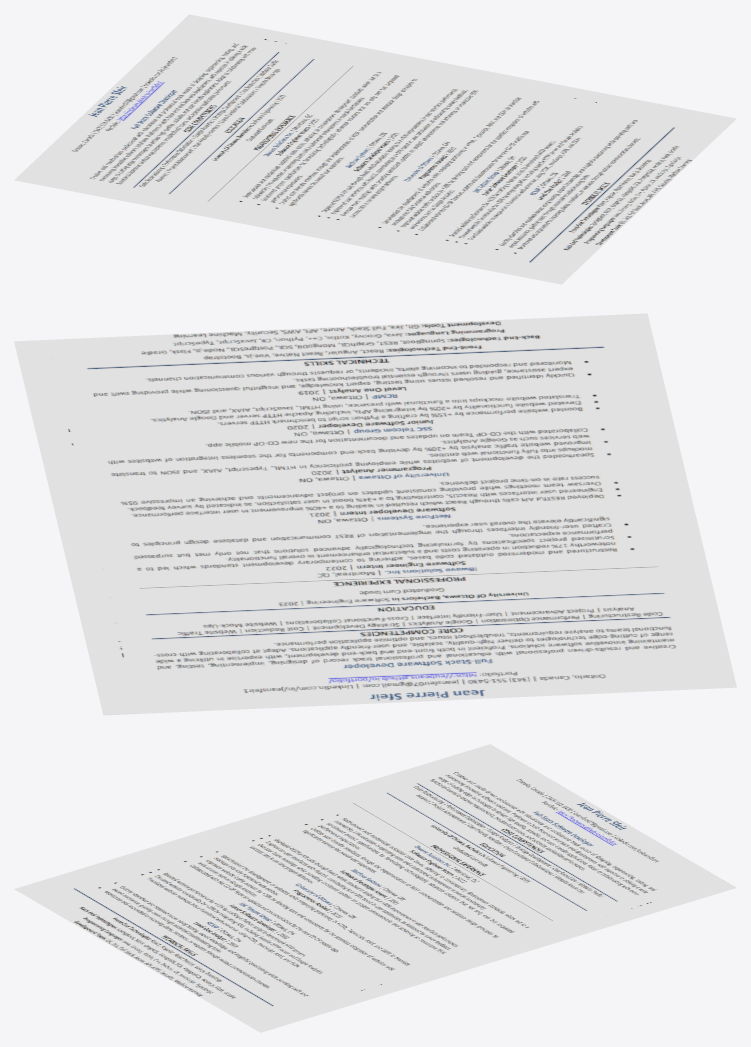
Rendered from compressed_CVPaper.glb.
The picture shows the model from 3 angles, top to bottom: view 1: azimuth 30°, elevation 25°; view 2: azimuth 150°, elevation 25°; view 3: azimuth 270°, elevation 25°; orthographic projection. The views are drawn at different scales.
Visible parts, largest first — view 1: paper; view 2: paper; view 3: paper.
Boxes of the visible parts, x1,y1,x2,y2 form: paper: [14, 14, 736, 284]; paper: [14, 313, 736, 715]; paper: [14, 744, 736, 1032].
Size of the model in its own units: 1.13 by 0 by 1.19.
1 material, 1 textured.
